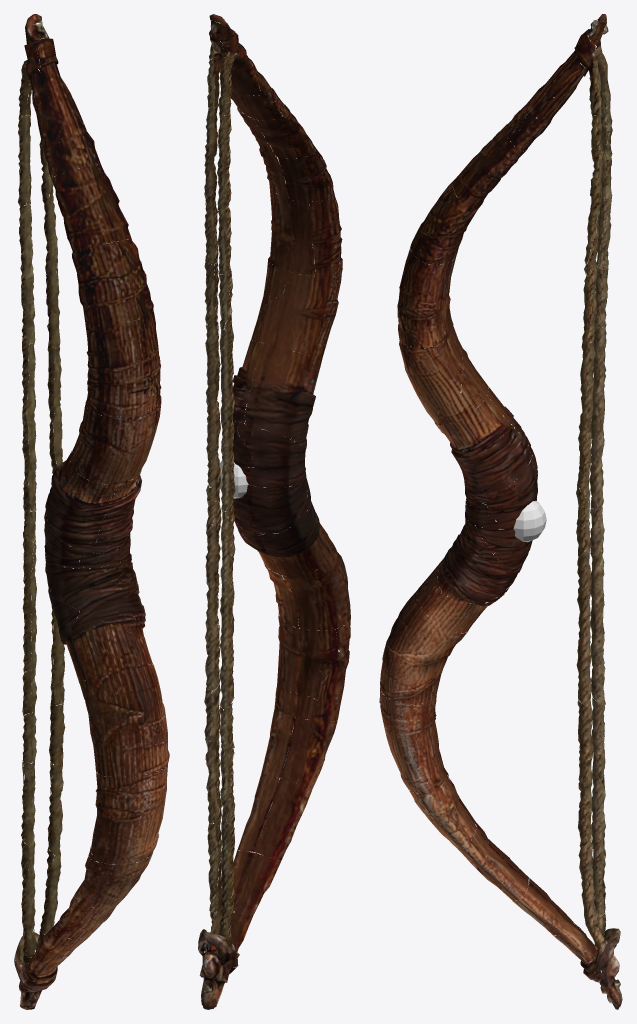
The model's file is bow.glb.
The picture shows the model from 3 angles, left to right: view 1: azimuth 30°, elevation 25°; view 2: azimuth 150°, elevation 25°; view 3: azimuth 270°, elevation 25°; orthographic projection.
Visible parts, largest first — view 1: tripo_node_4ed94ec3-7e07-4cd6-9b4b-166ae4b9f7b5; view 2: tripo_node_4ed94ec3-7e07-4cd6-9b4b-166ae4b9f7b5, Sphere; view 3: tripo_node_4ed94ec3-7e07-4cd6-9b4b-166ae4b9f7b5, Sphere.
Boxes of the visible parts, x1,y1,x2,y2 form: tripo_node_4ed94ec3-7e07-4cd6-9b4b-166ae4b9f7b5: (14,14,169,1009); tripo_node_4ed94ec3-7e07-4cd6-9b4b-166ae4b9f7b5: (198,14,350,1009); Sphere: (219,460,255,498); tripo_node_4ed94ec3-7e07-4cd6-9b4b-166ae4b9f7b5: (379,14,622,1009); Sphere: (503,501,546,542).
Size of the model in its own units: 0.0791 by 0.95 by 0.2107.
2 materials, 1 textured.
